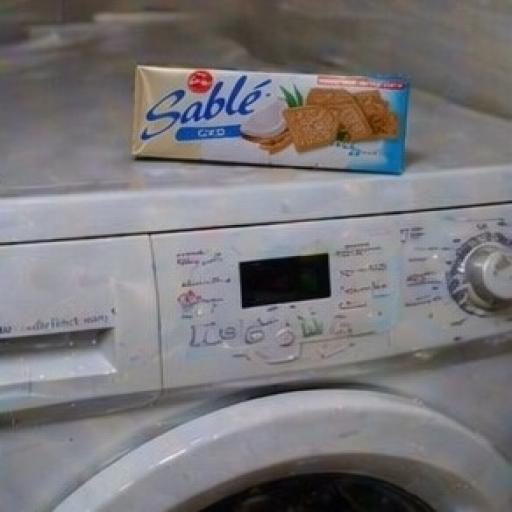sabl: (72, 17, 458, 260)
